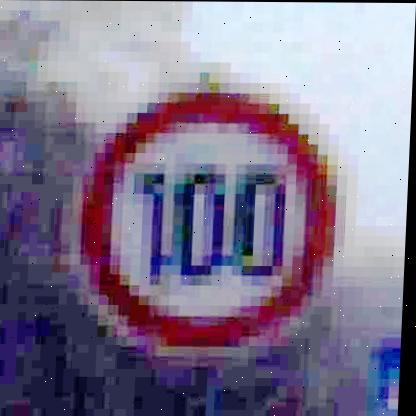Speed Limit -100-: (71, 81, 353, 352)
